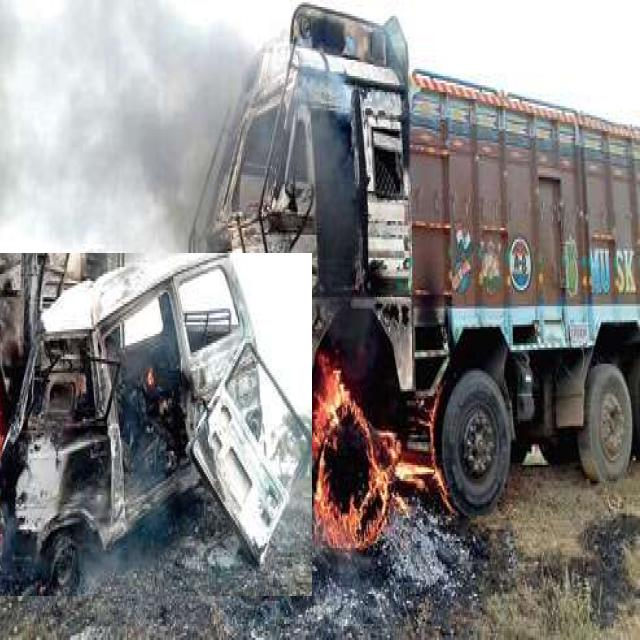accident: (190, 4, 640, 548), (0, 254, 312, 596)
